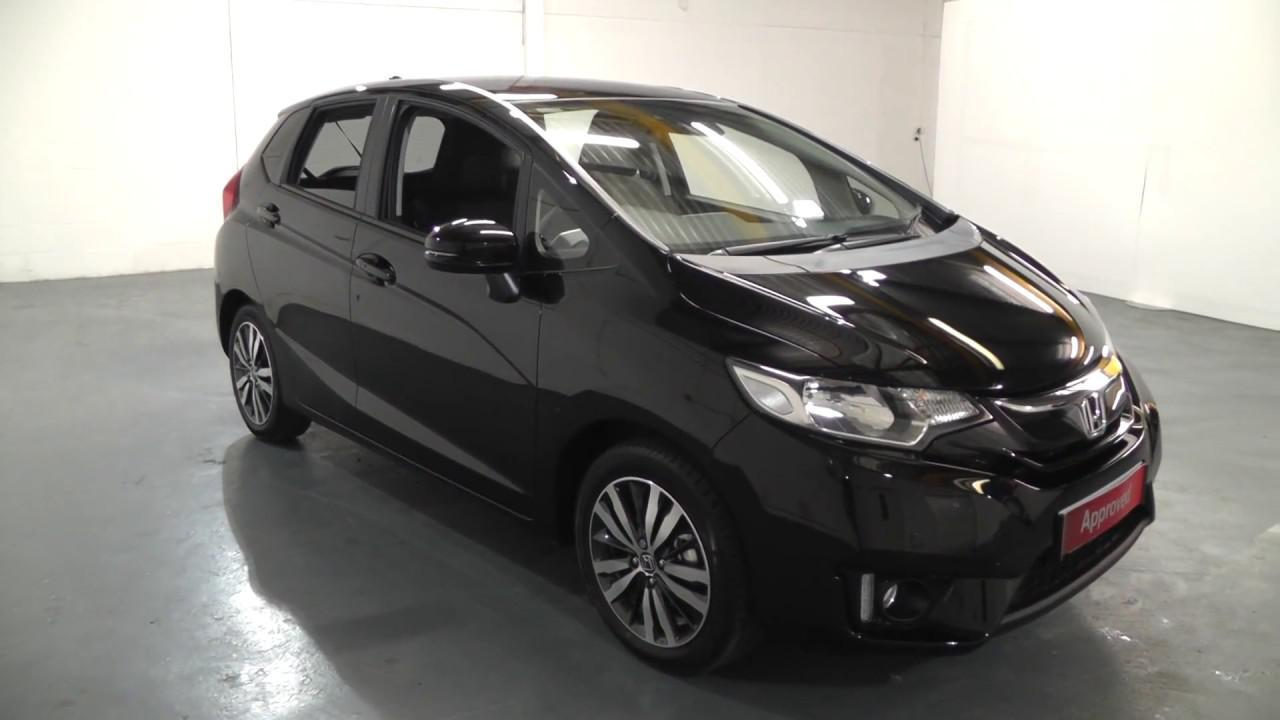Hatchback: (195, 52, 1183, 689)
